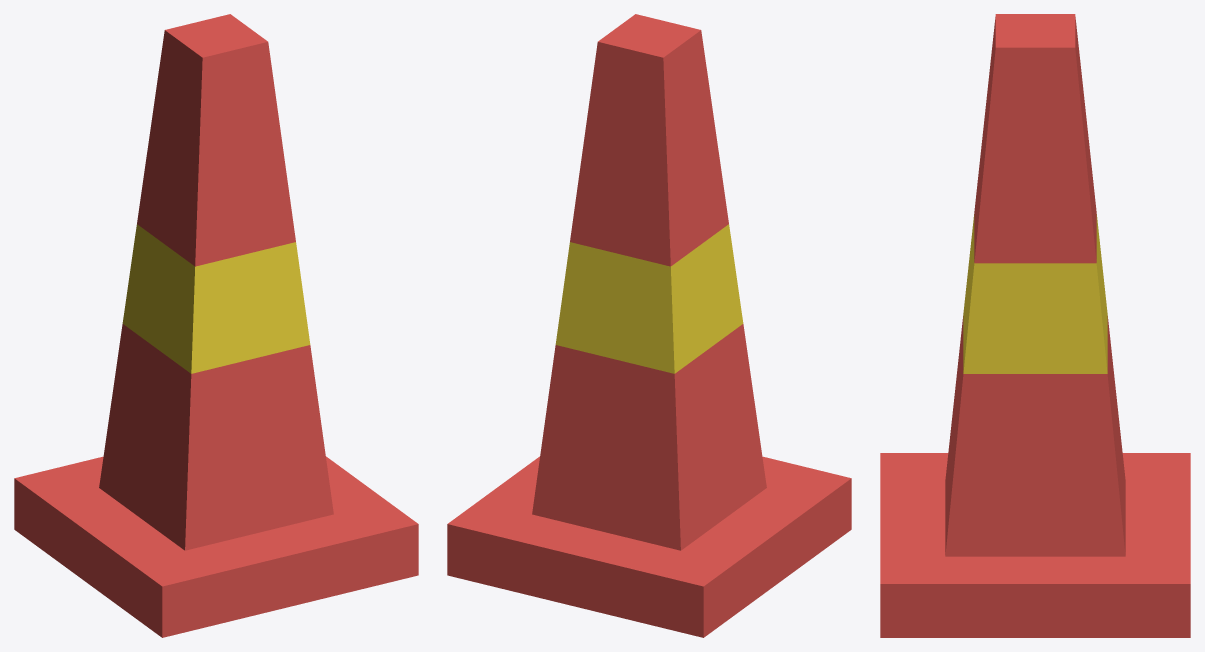
Rendered from DangerCup.fbx.
3 renders of one model, left to right at view 1: azimuth 30°, elevation 25°; view 2: azimuth 150°, elevation 25°; view 3: azimuth 270°, elevation 25°, orthographic. The views are drawn at different scales.
Parts seen in each view (by area): view 1: DangerCUP; view 2: DangerCUP; view 3: DangerCUP.
Part boxes in pixels (x1,y1,x2,y2): DangerCUP: (14,14,418,637); DangerCUP: (447,14,851,637); DangerCUP: (880,14,1190,637).
Bounding box in the file's own units: 22.75 × 43.84 × 22.75.
